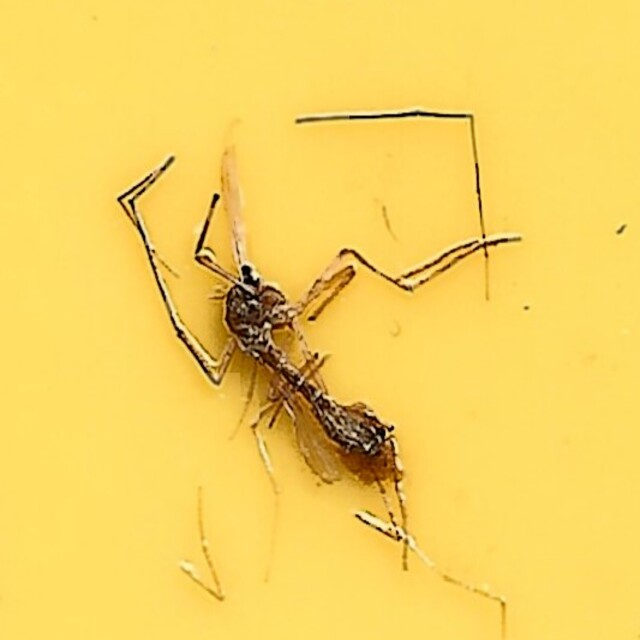Nematocera: (120, 144, 520, 496)
